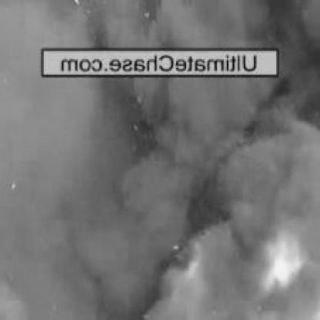Smoke: (12, 3, 310, 235)
